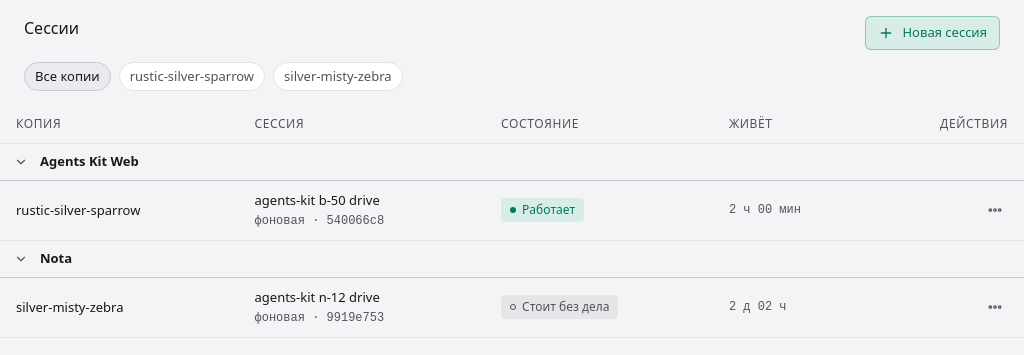
Test case: группа сворачивается кликом по шапке
Click the button named "Свернуть Agents Kit Web".
click(21, 162)  # box left=12, top=153, right=30, bottom=171
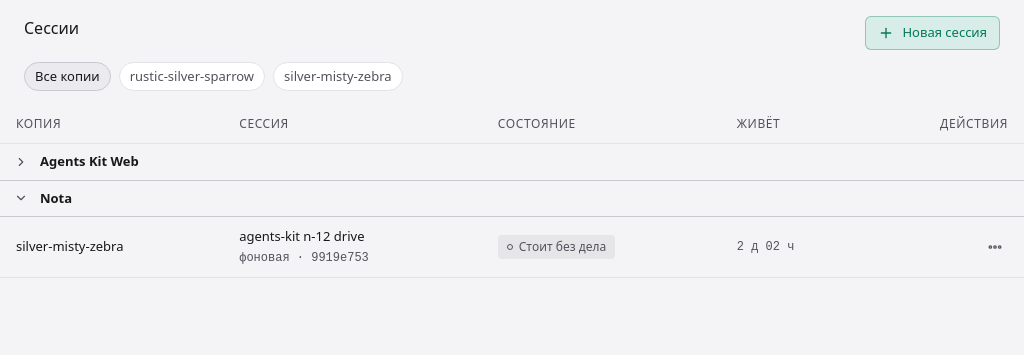
Expected: the text "agents-kit n-12 drive" is shown, left=239, top=227, right=364, bottom=245
Expected: the text "agents-kit b-50 drive" is gone
